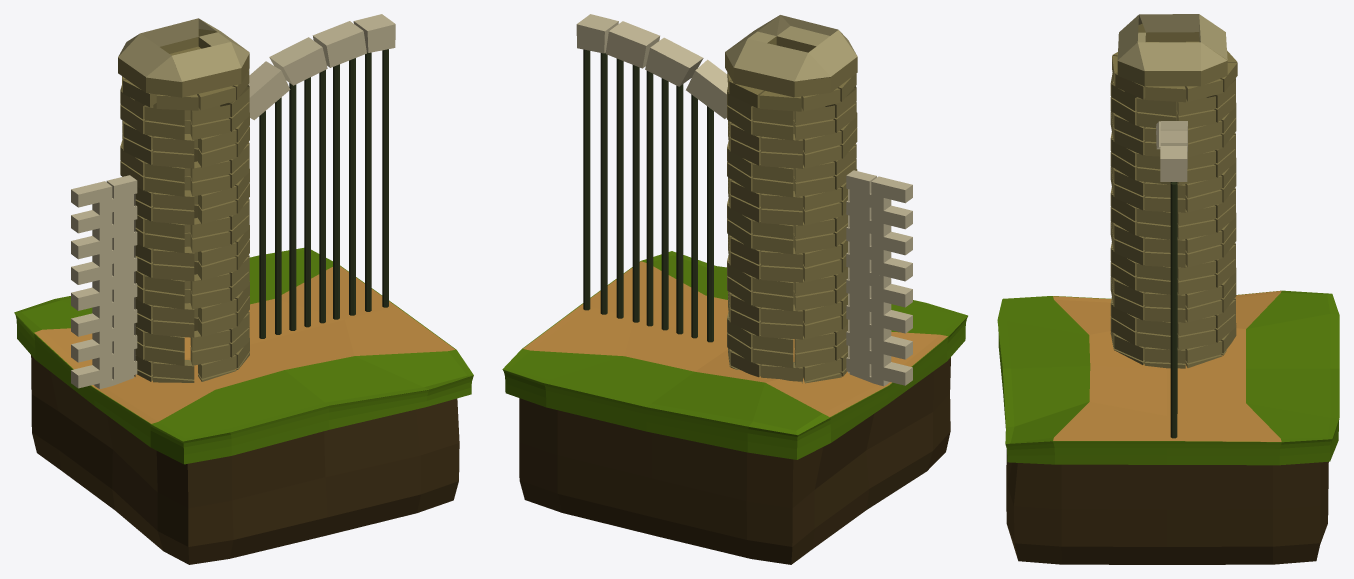
The model's file is WallTile_GateBrick.fbx.
3 renders of one model, left to right at view 1: azimuth 30°, elevation 25°; view 2: azimuth 150°, elevation 25°; view 3: azimuth 270°, elevation 25°, orthographic. The views are drawn at different scales.
Parts seen in each view (by area): view 1: DefaultGreenTile.010, CircleTower, Pillar.012, Wall; view 2: DefaultGreenTile.010, CircleTower, Pillar.012, Wall; view 3: DefaultGreenTile.010, CircleTower, Pillar.012.
Part boxes in pixels (bbox=[...]): DefaultGreenTile.010: bbox=[14, 248, 473, 564]; CircleTower: bbox=[118, 18, 249, 382]; Pillar.012: bbox=[248, 14, 395, 338]; Wall: bbox=[71, 175, 137, 388]; DefaultGreenTile.010: bbox=[502, 251, 967, 564]; CircleTower: bbox=[725, 15, 857, 383]; Pillar.012: bbox=[576, 14, 727, 342]; Wall: bbox=[846, 170, 912, 386]; DefaultGreenTile.010: bbox=[997, 290, 1339, 564]; CircleTower: bbox=[1110, 14, 1237, 368]; Pillar.012: bbox=[1156, 121, 1187, 438].
Bounding box in the file's own units: 20.73 × 19.42 × 28.12.
